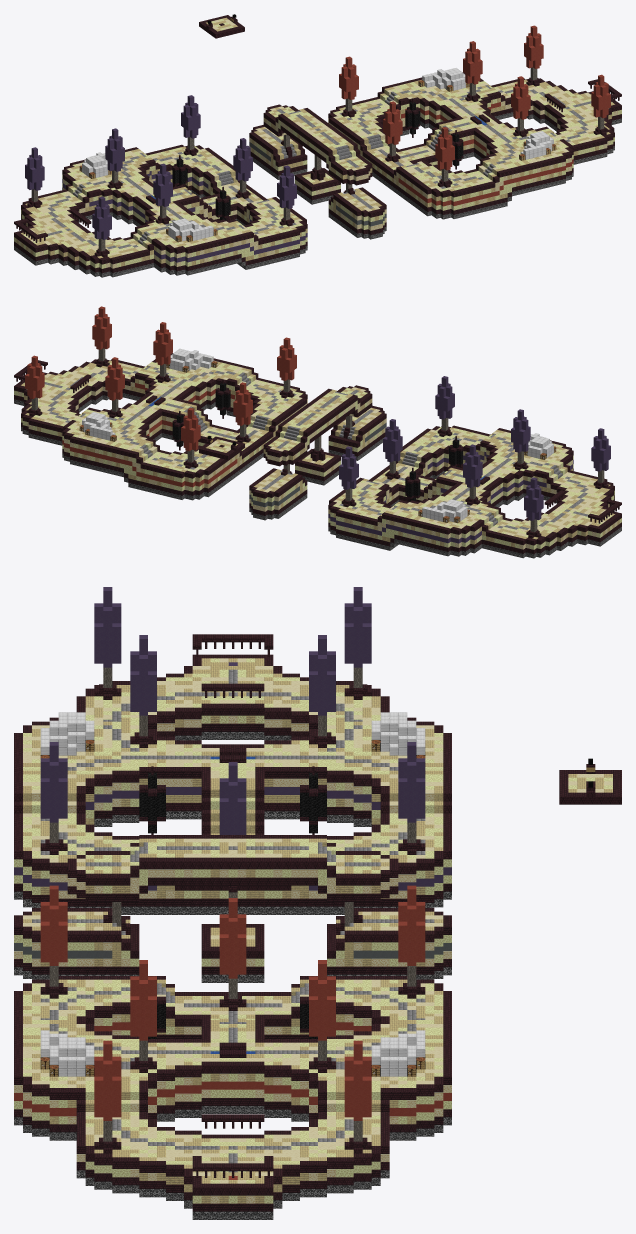
The model's file is minecraft.obj.
3 views of the same model, one above another, from view 1: azimuth 30°, elevation 25°; view 2: azimuth 150°, elevation 25°; view 3: azimuth 270°, elevation 25° (orthographic). The views are drawn at different scales.
Size of the model in its own units: 1410 by 245 by 680.
